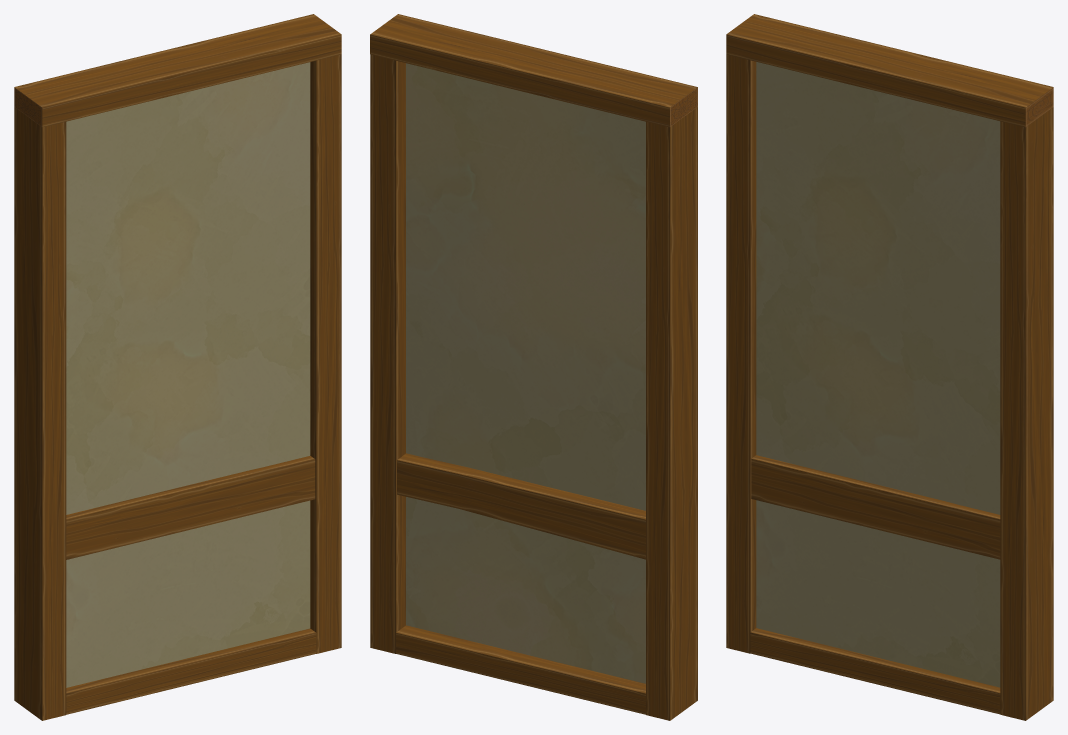
File: SM_House_Wall_Interior_Stairs_01.fbx
3 views of the same model, side by side, from view 1: azimuth 30°, elevation 25°; view 2: azimuth 150°, elevation 25°; view 3: azimuth 330°, elevation 25° (orthographic).
Parts seen in each view (by area): view 1: SM_House_Wall_Interior_Stairs_01; view 2: SM_House_Wall_Interior_Stairs_01; view 3: SM_House_Wall_Interior_Stairs_01.
Boxes of the visible parts, box(x1,y1,x2,y2) form: SM_House_Wall_Interior_Stairs_01: box(14, 14, 341, 720); SM_House_Wall_Interior_Stairs_01: box(370, 14, 697, 720); SM_House_Wall_Interior_Stairs_01: box(726, 14, 1053, 720).
Bounding box in the file's own units: 2 × 3.91 × 0.3241.
